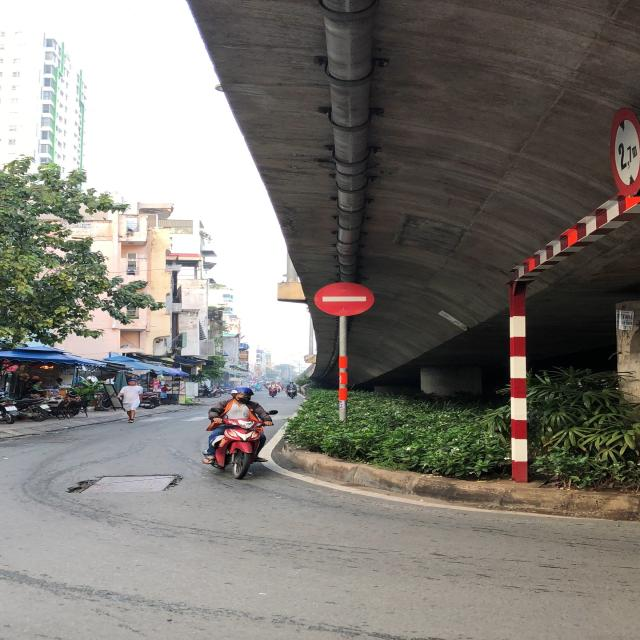Bien bao cam di nguoc chieu: (304, 278, 391, 320)
